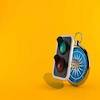green: (2, 2, 43, 94)
